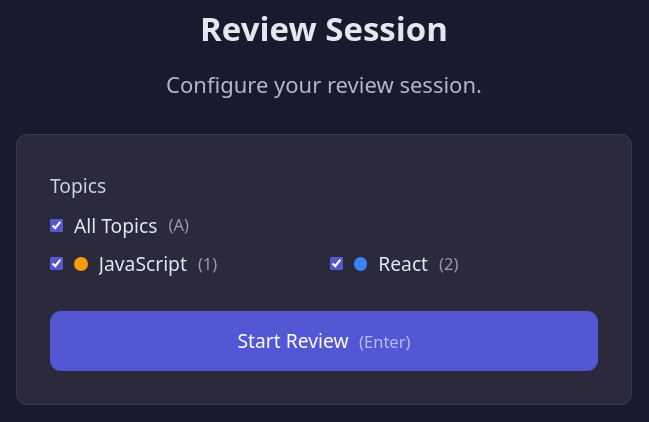
Test: ReviewPage › shows all caught up when no cards due
The image size is (649, 422).
Click the button "Start Review (Enter)": [324, 341] box x1=50 y1=310 x2=598 y2=371
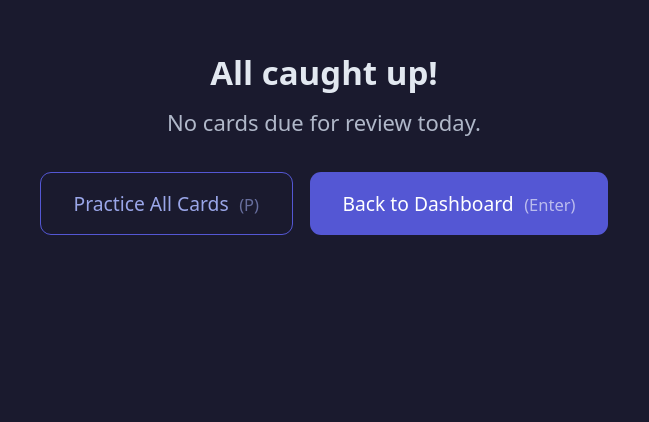
Check: the heading "All caught up!" is shown, box x1=210 y1=51 x2=438 y2=95
